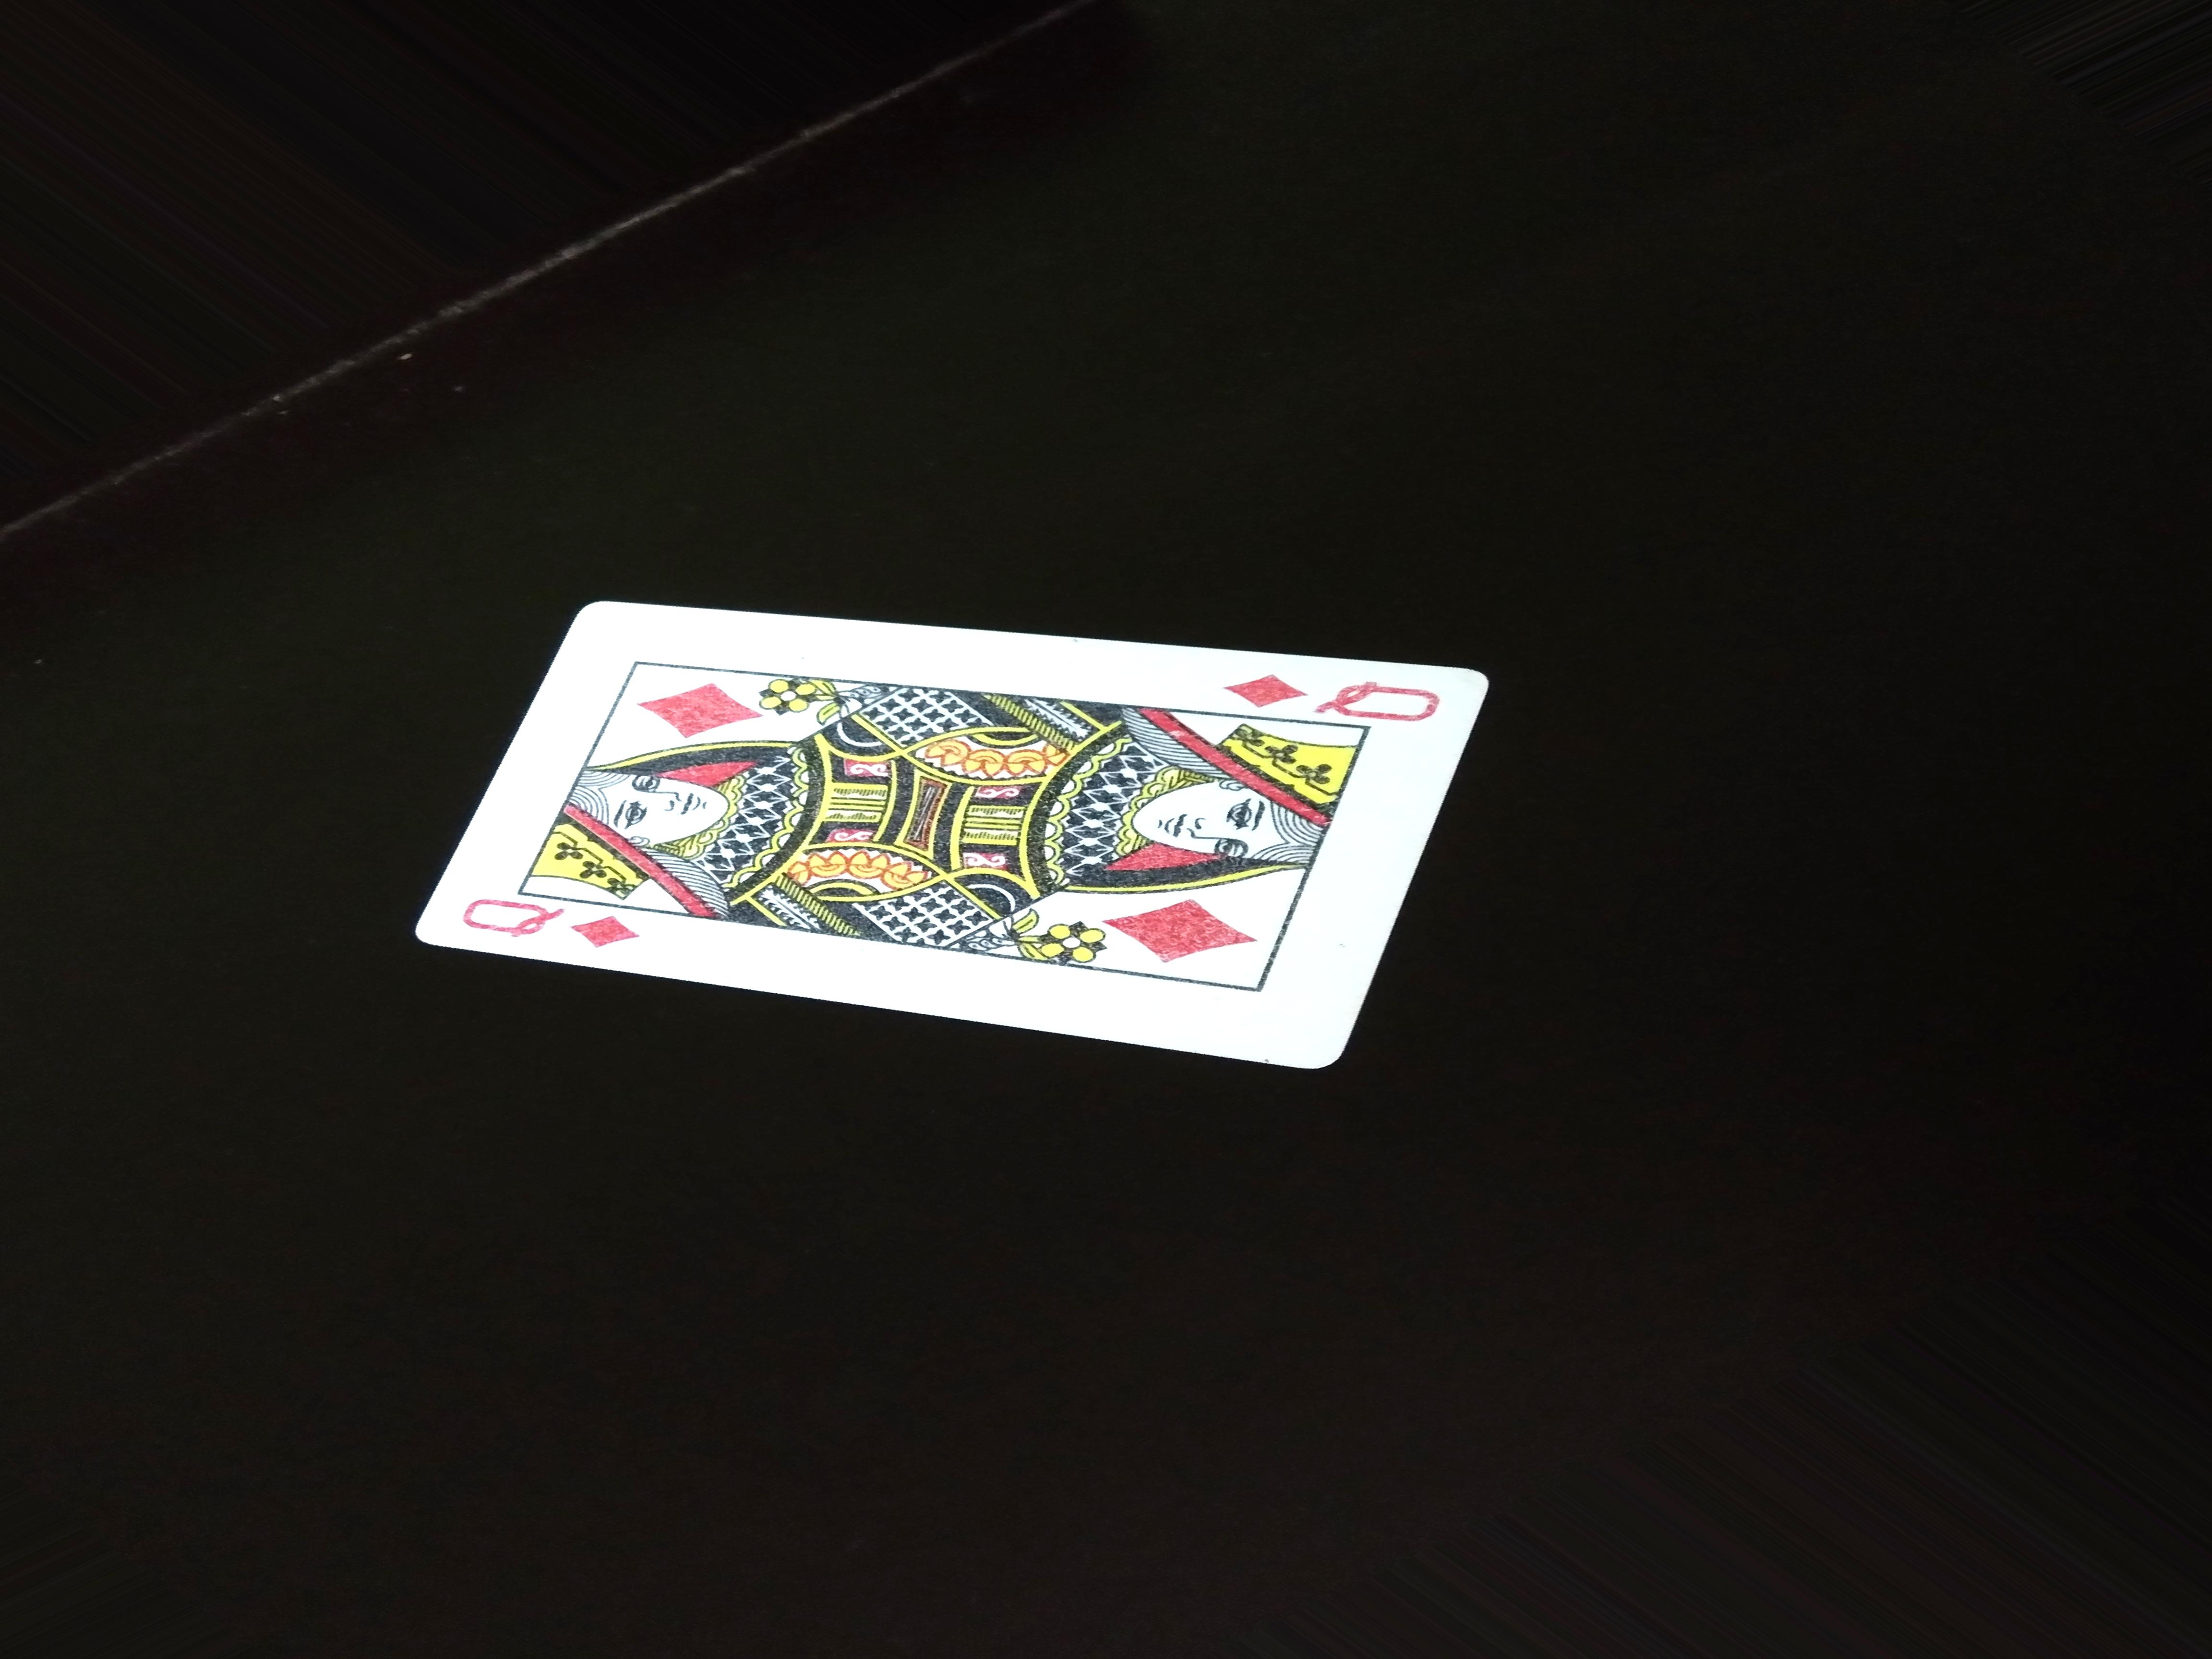QD: (428, 878, 669, 967)
